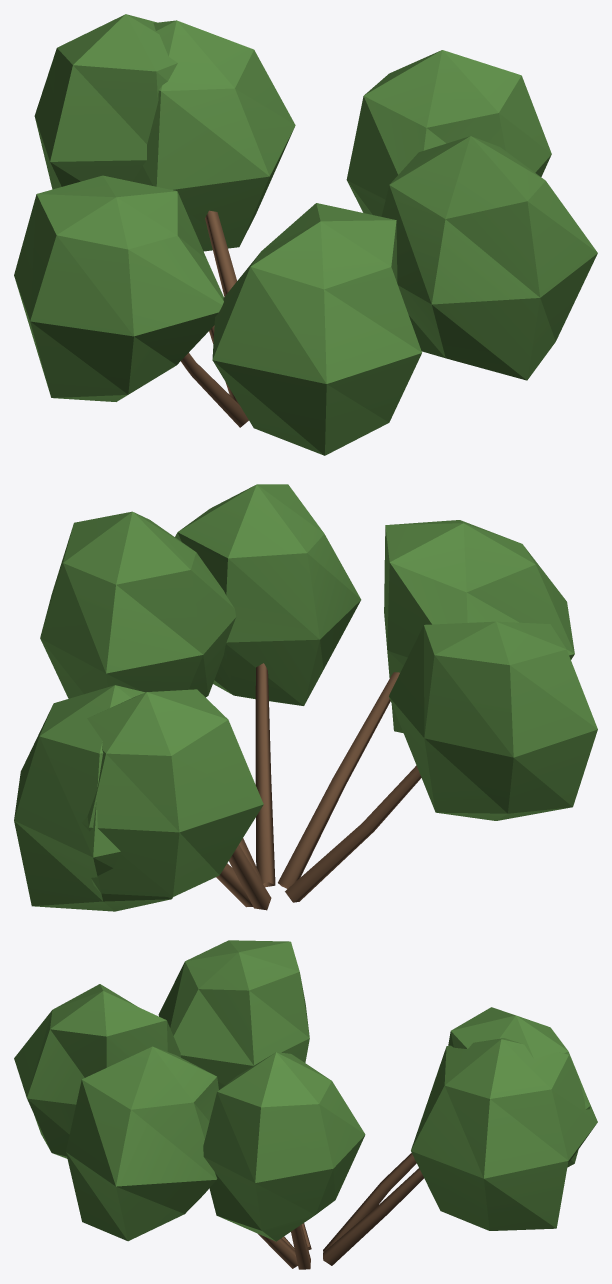
The model's file is hazel_2.glb.
3 views of the same model, one above another, from view 1: azimuth 30°, elevation 25°; view 2: azimuth 150°, elevation 25°; view 3: azimuth 270°, elevation 25° (orthographic). The views are drawn at different scales.
Parts seen in each view (by area): view 1: hazel_2; view 2: hazel_2; view 3: hazel_2.
Boxes of the visible parts, x1,y1,x2,y2 form: hazel_2: (14,14,597,455); hazel_2: (14,484,597,911); hazel_2: (14,940,597,1269).
Size of the model in its own units: 2.71 by 1.64 by 3.18.
